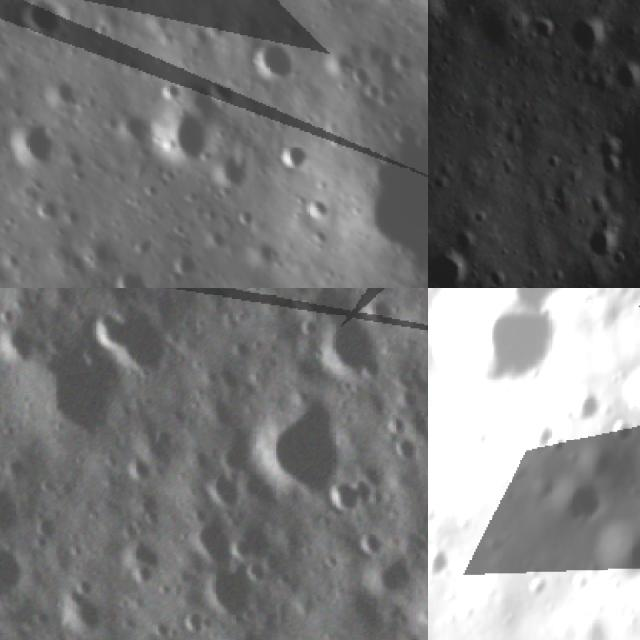crater: (11, 327, 147, 463), (428, 288, 571, 404), (248, 390, 371, 513), (78, 288, 194, 400), (140, 98, 220, 182), (319, 309, 394, 388), (178, 509, 246, 577), (0, 111, 69, 178), (577, 520, 640, 591), (0, 450, 44, 550), (204, 561, 269, 622), (48, 581, 113, 640), (553, 477, 606, 543), (0, 315, 52, 382), (250, 33, 306, 91), (117, 535, 170, 589), (204, 464, 252, 516), (0, 536, 35, 593), (169, 601, 220, 640), (267, 132, 309, 174), (563, 389, 610, 426), (580, 448, 620, 491), (571, 16, 613, 56), (354, 524, 394, 564), (380, 408, 418, 448), (298, 189, 337, 227), (518, 420, 558, 457), (120, 453, 158, 491), (363, 293, 401, 331), (290, 314, 328, 352), (24, 0, 64, 35), (428, 255, 469, 288), (392, 435, 428, 471), (106, 260, 152, 288), (594, 136, 623, 178), (607, 419, 640, 454), (428, 544, 451, 585), (230, 204, 260, 232), (585, 228, 609, 263), (453, 228, 480, 257), (346, 63, 374, 90), (617, 65, 640, 96), (243, 288, 274, 304), (488, 267, 510, 288), (428, 0, 438, 27), (578, 0, 611, 8)
